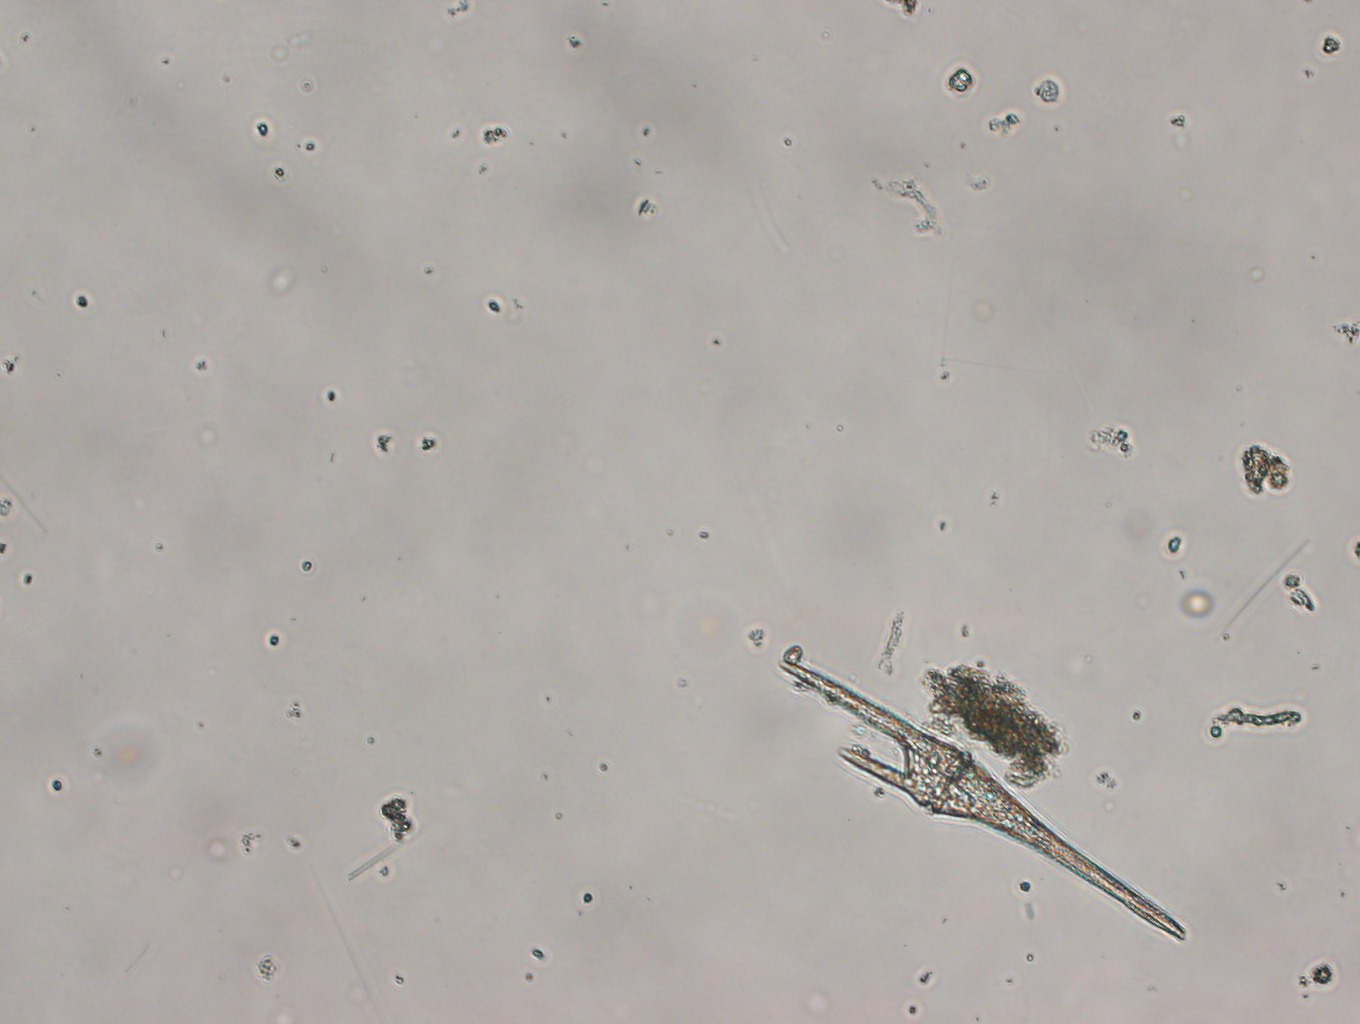ceratium furca: (775, 656, 1191, 943)
